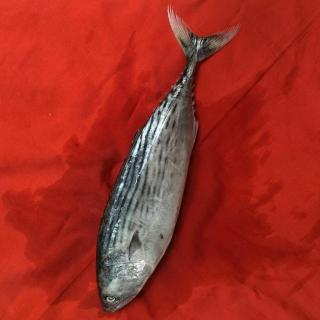Ikan: (80, 24, 253, 320)
